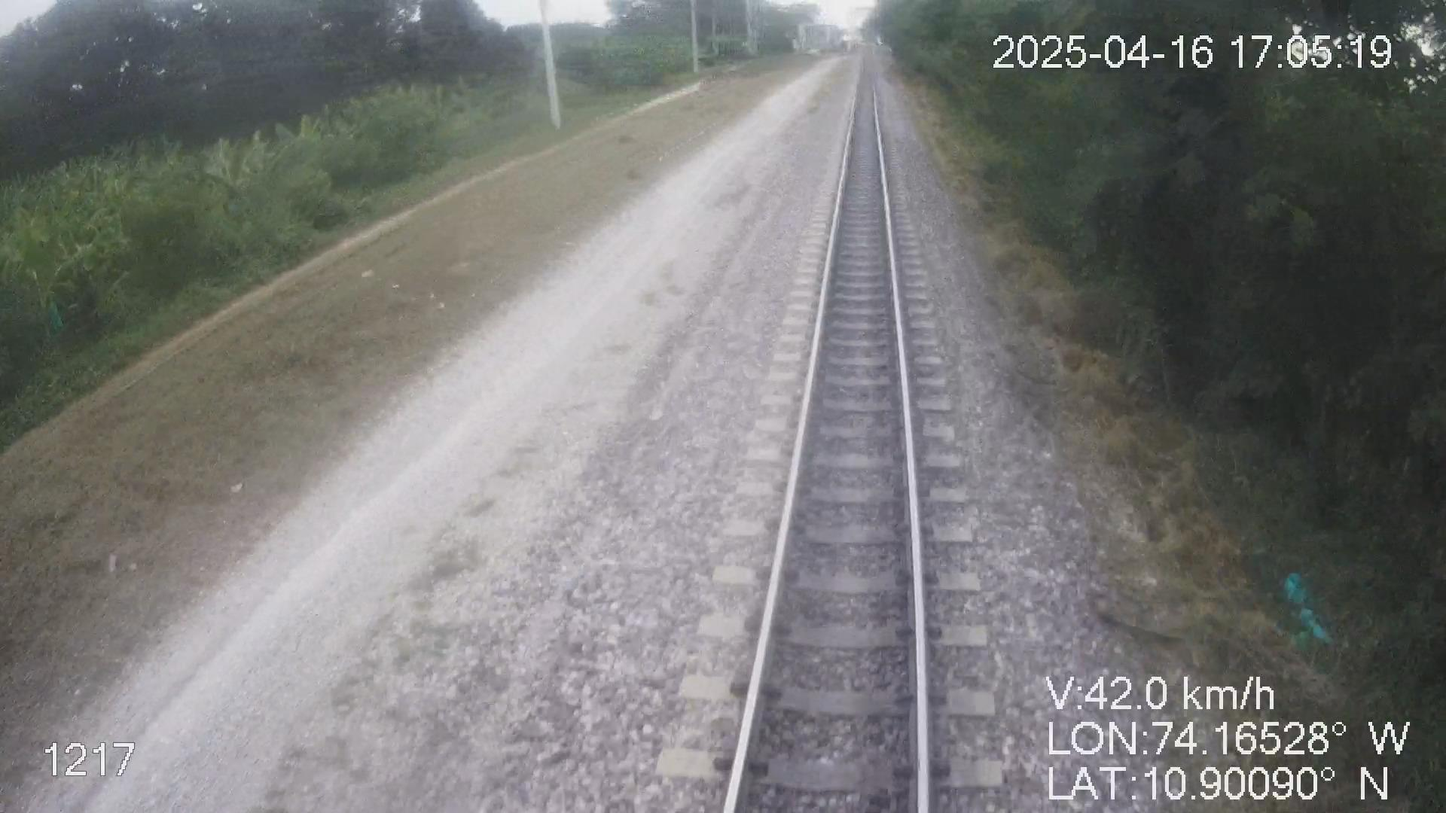Pasto: (0, 0, 816, 812), (864, 0, 1445, 812)
